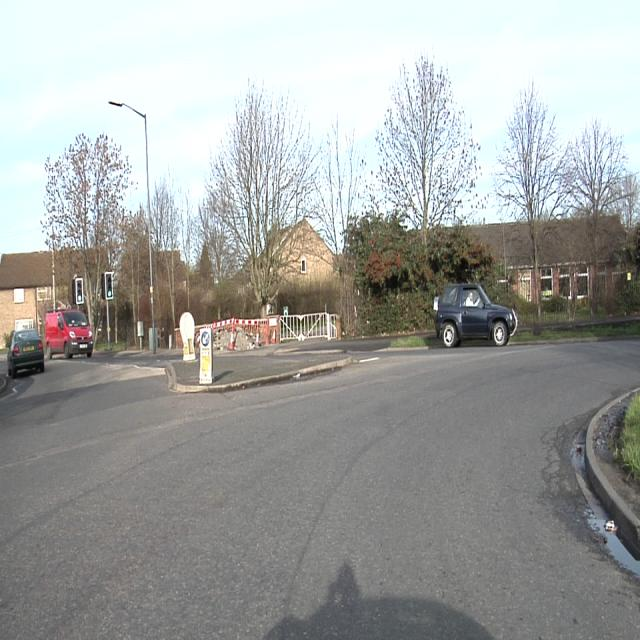Building: (1, 252, 50, 344)
Car: (436, 285, 517, 346), (10, 329, 44, 376)
Road: (0, 339, 634, 617)
Tree: (200, 57, 593, 334), (493, 78, 639, 284), (43, 132, 144, 339)
Truck_Bus: (47, 308, 92, 358)
